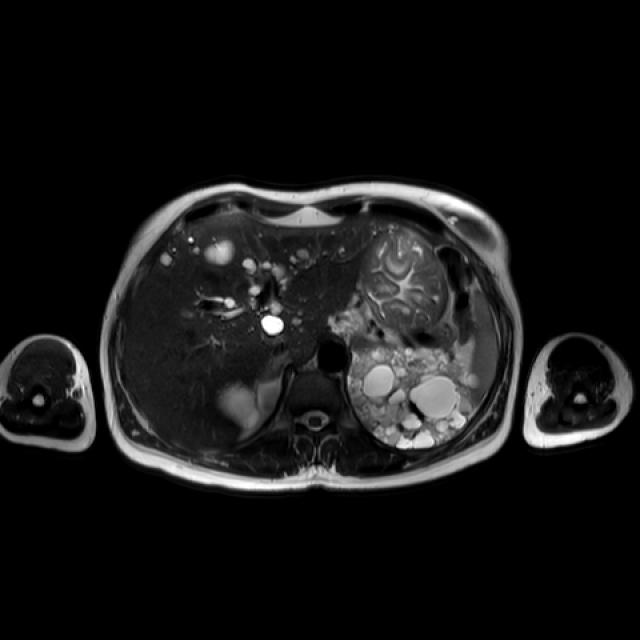sag: (219, 381, 263, 432)
sol: (352, 345, 475, 450)
